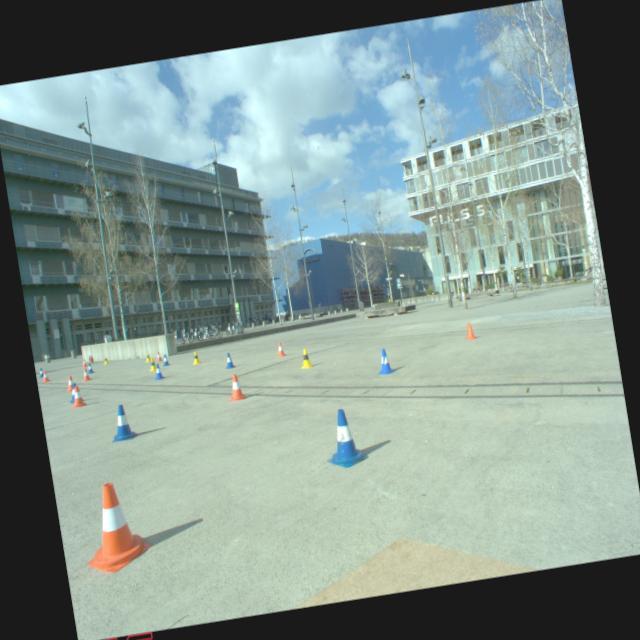blue_cone: (320, 406, 370, 470), (106, 402, 138, 442), (374, 348, 397, 377), (66, 383, 80, 404), (222, 352, 236, 369), (152, 363, 166, 380), (162, 354, 170, 366), (86, 362, 94, 374), (37, 368, 44, 378)
orange_cone: (76, 477, 156, 577), (225, 372, 247, 402), (67, 384, 89, 408), (462, 321, 477, 340), (275, 342, 287, 358), (64, 376, 76, 392), (81, 368, 92, 382), (40, 370, 51, 382), (155, 351, 163, 362), (82, 358, 88, 368)
yellow_cone: (298, 347, 314, 369), (192, 350, 202, 364), (148, 358, 157, 372), (144, 352, 152, 362), (102, 356, 110, 364)
